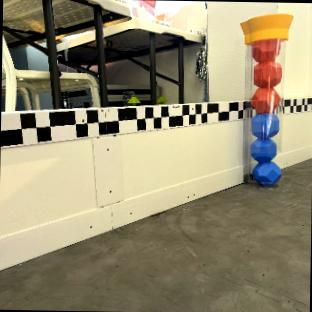V5_BLUE: (250, 113, 280, 183)
V5_RED: (251, 38, 281, 112), (251, 80, 280, 112)
